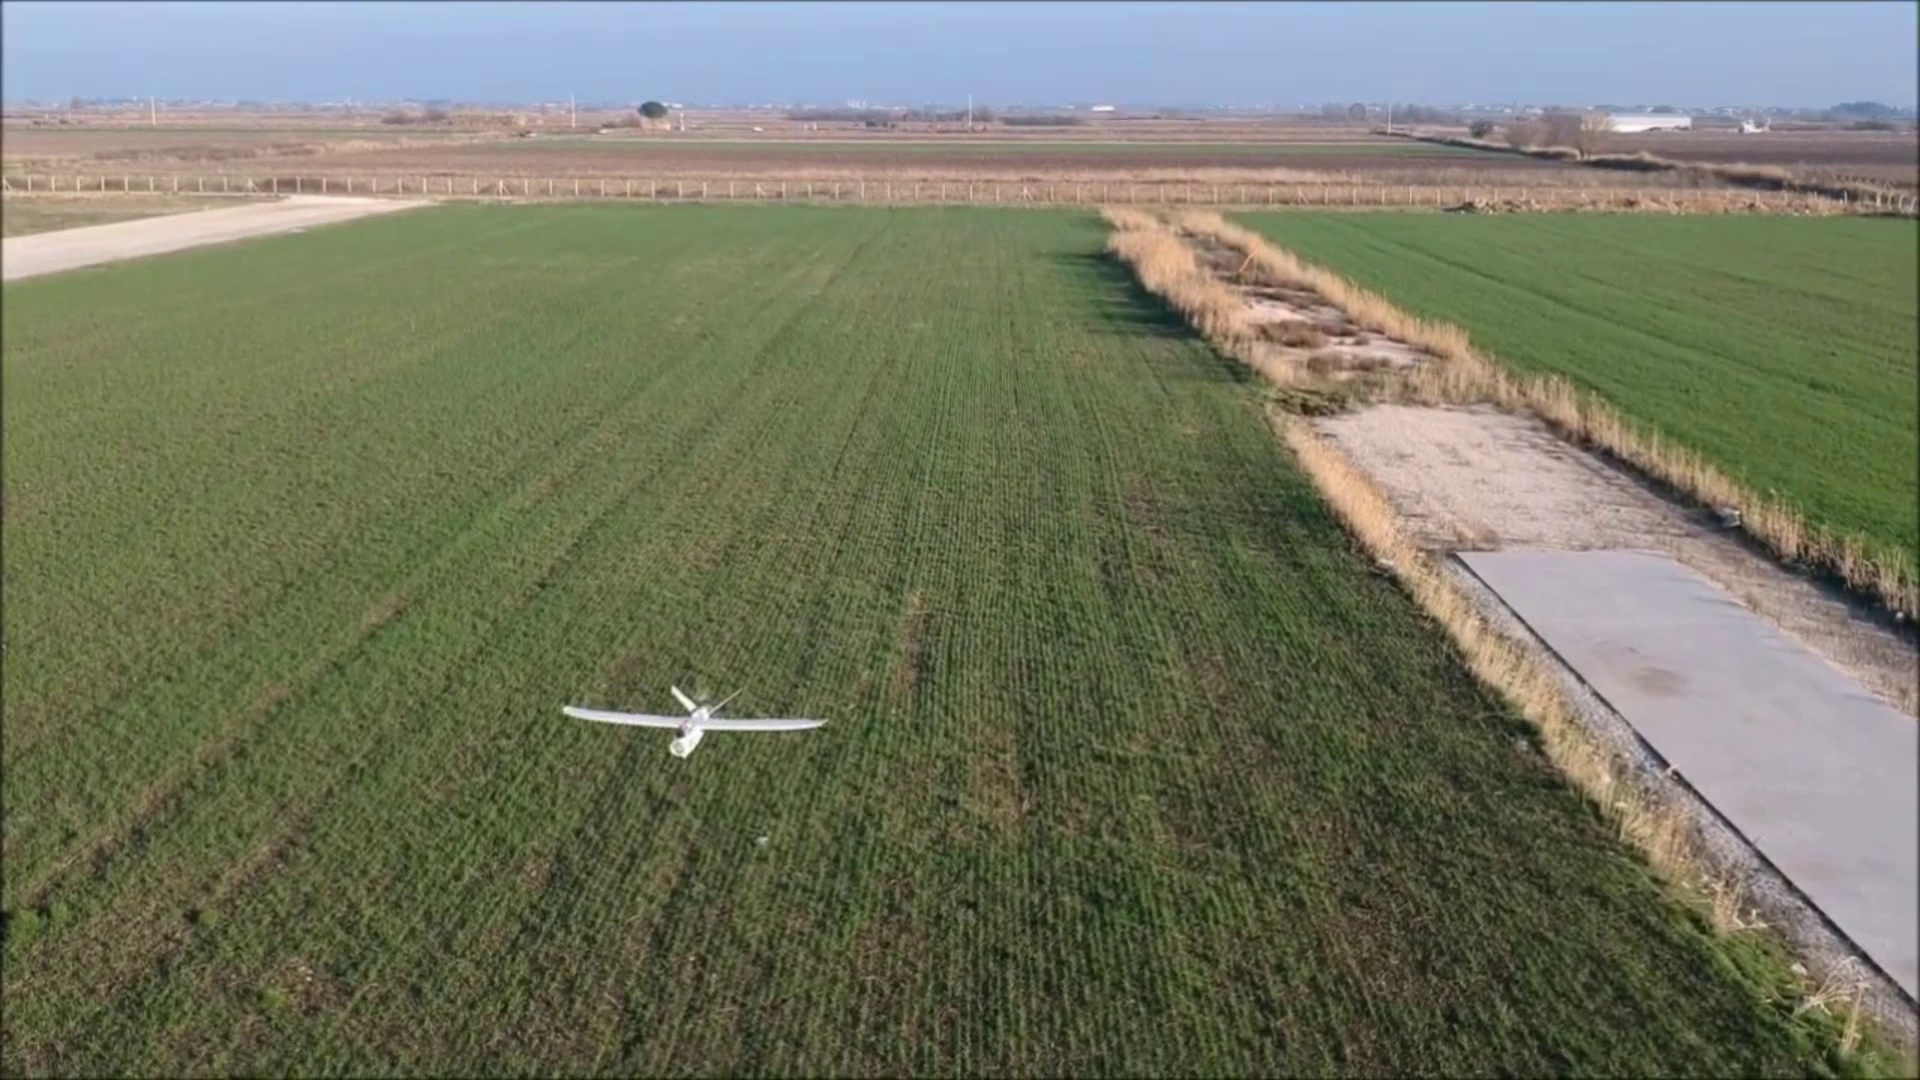airplane: (560, 690, 829, 752)
